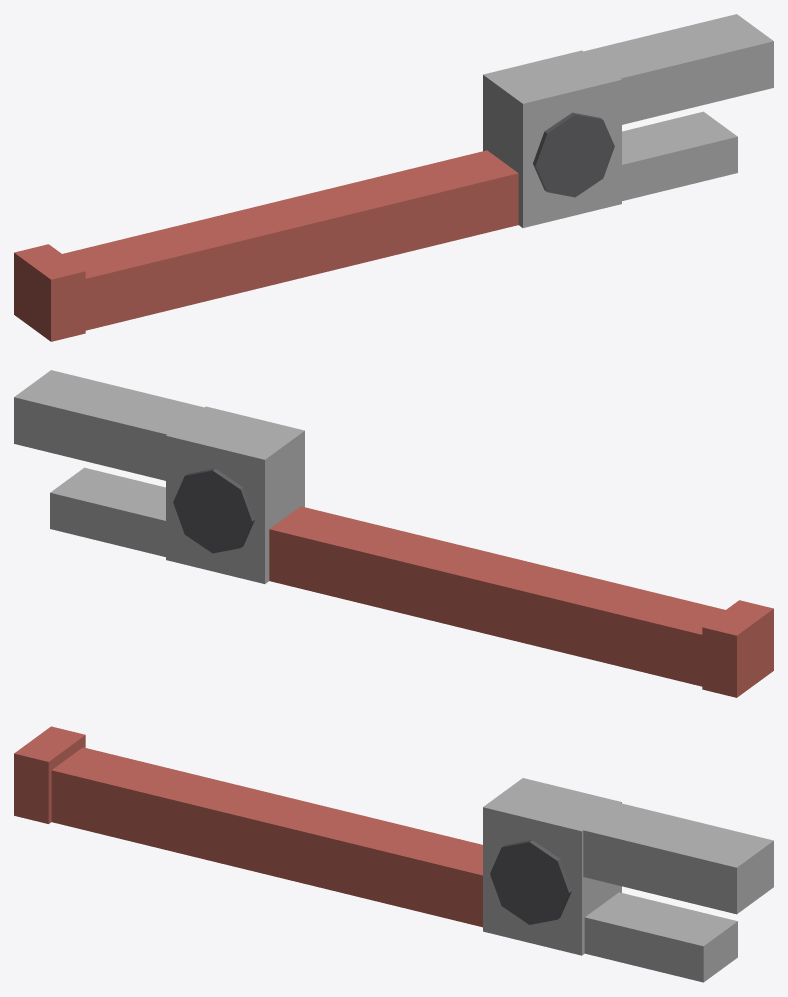
File: wrench.glb
The picture shows the model from 3 angles, top to bottom: view 1: azimuth 30°, elevation 25°; view 2: azimuth 150°, elevation 25°; view 3: azimuth 330°, elevation 25°; orthographic projection.
Parts seen in each view (by area): view 1: NC_wrench; view 2: NC_wrench; view 3: NC_wrench.
Part boxes in pixels (x1,y1,x2,y2): NC_wrench: (14, 14, 773, 341); NC_wrench: (14, 370, 773, 697); NC_wrench: (14, 726, 773, 982).
Size of the model in its own units: 0.292 by 0.048 by 0.032.
